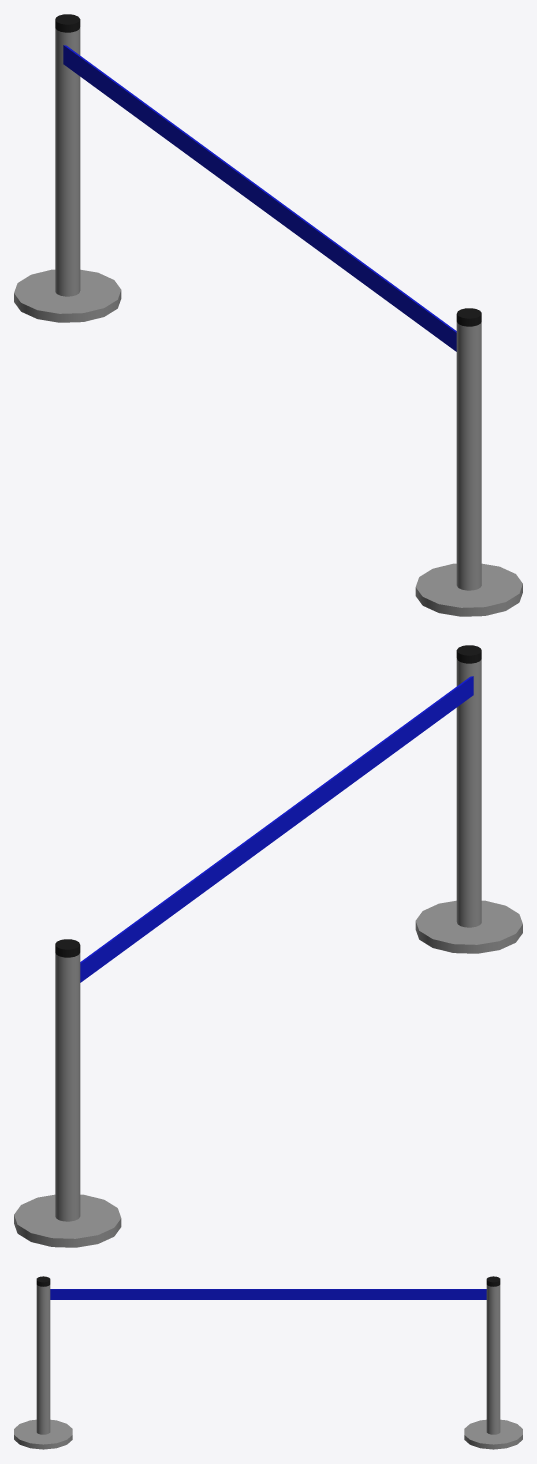
File: ray_store_fish_fence.FBX
3 renders of one model, top to bottom at view 1: azimuth 30°, elevation 25°; view 2: azimuth 150°, elevation 25°; view 3: azimuth 270°, elevation 25°, orthographic. The views are drawn at different scales.
Parts seen in each view (by area): view 1: ray_store_fish_fence; view 2: ray_store_fish_fence; view 3: ray_store_fish_fence.
Part boxes in pixels (box(x1,y1,x2,y2)): ray_store_fish_fence: box(14, 14, 522, 616); ray_store_fish_fence: box(14, 645, 522, 1247); ray_store_fish_fence: box(14, 1276, 522, 1449).
Bounding box in the file's own units: 0.2883 × 0.83 × 2.43.
